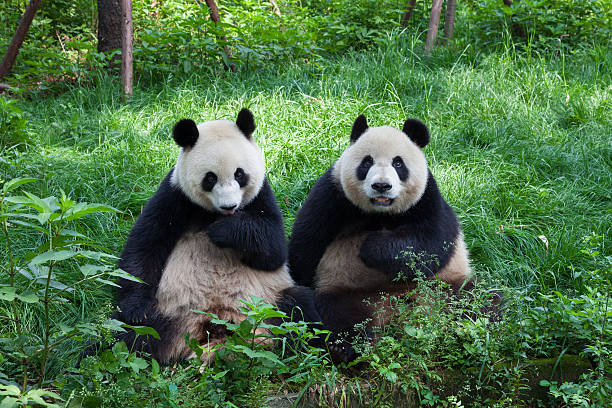panda: (312, 102, 446, 241), (163, 91, 292, 233)
